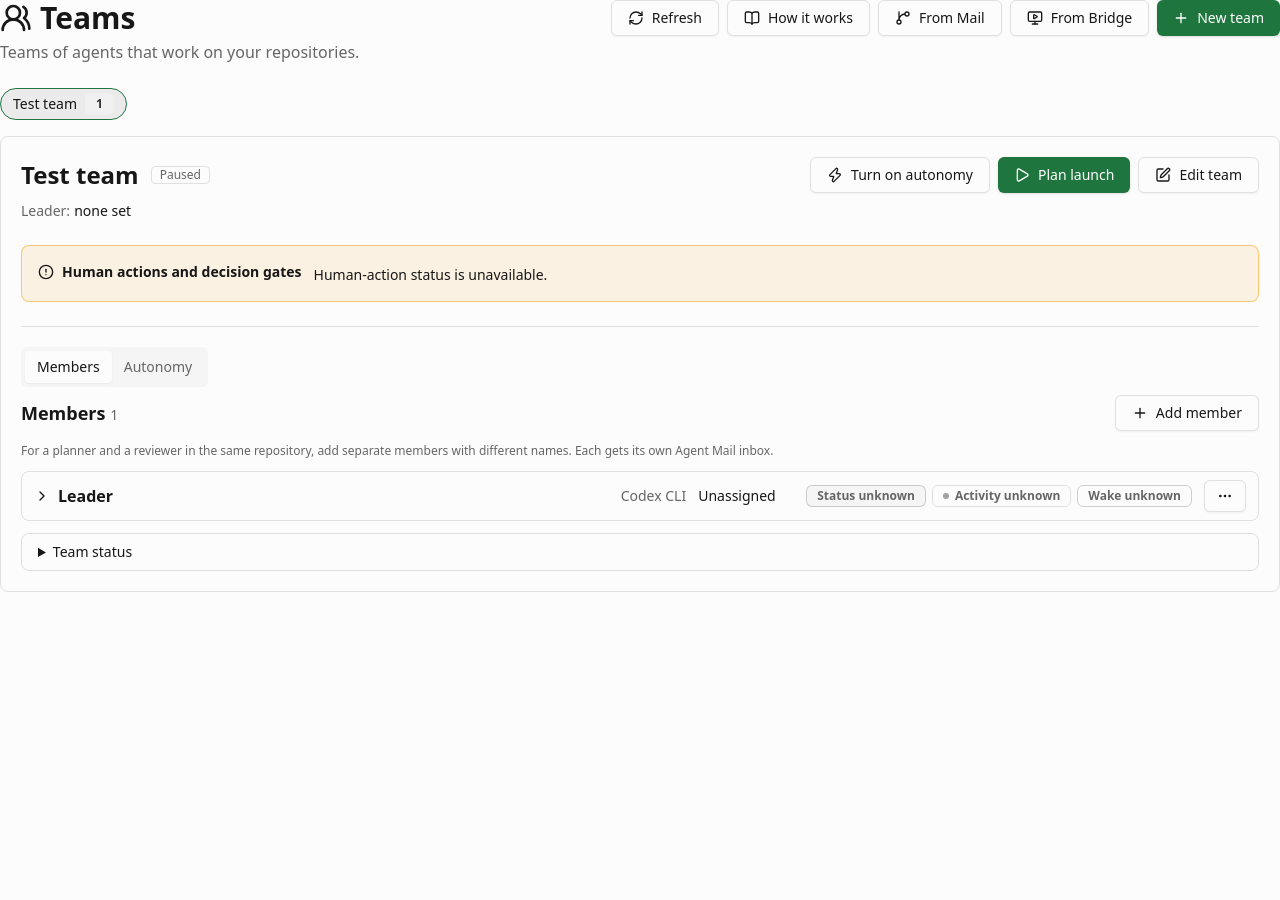
Test: AgentTeamsPage launch authorization › hides the plan while re-prompting after a rejected launch token
Click the button "Plan launch": (1064, 175) [998,157,1130,193]
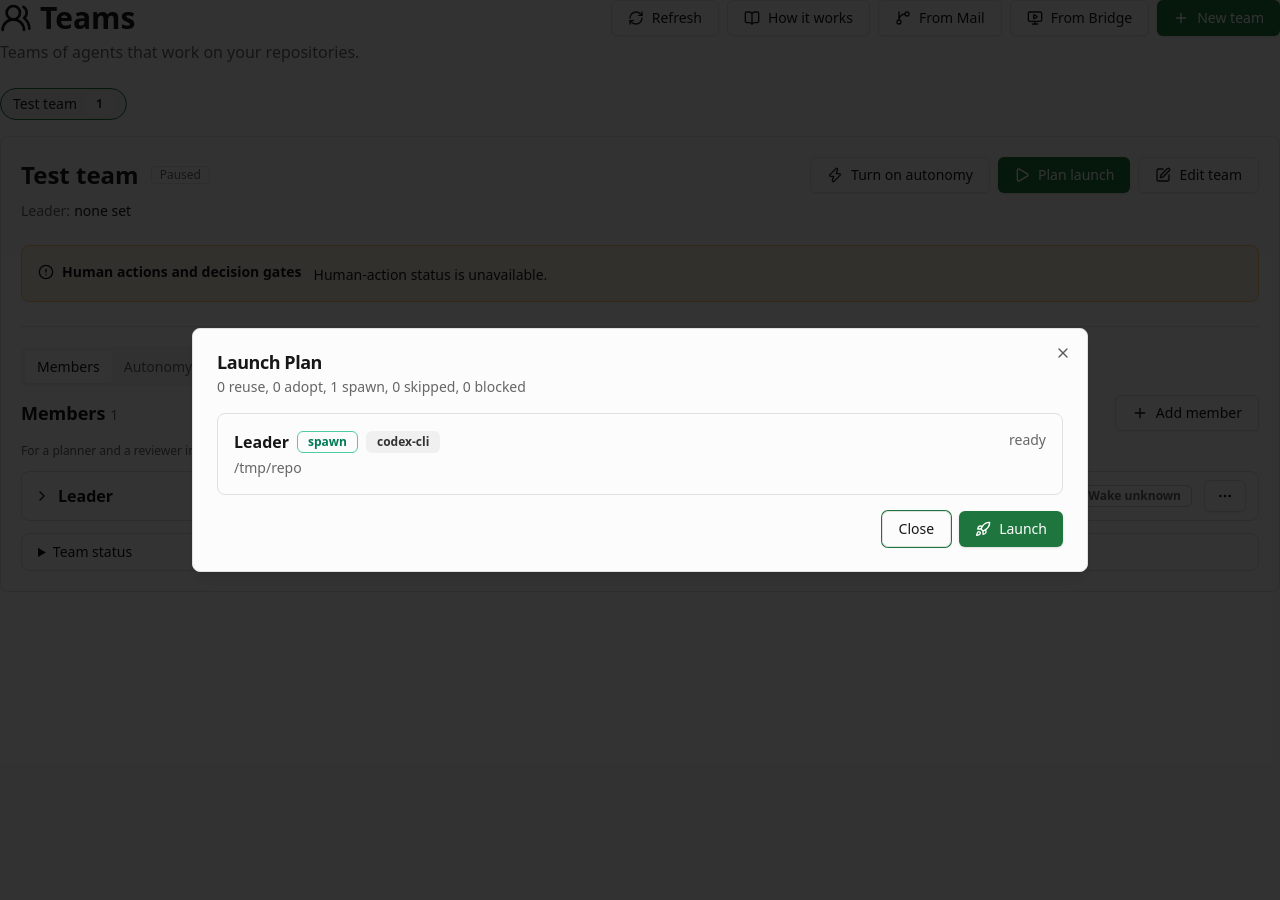
Expected: the dialog "Launch Plan" is shown, [192,328,1088,572]
Click the button "Launch": (1011, 529) [959,511,1063,547]
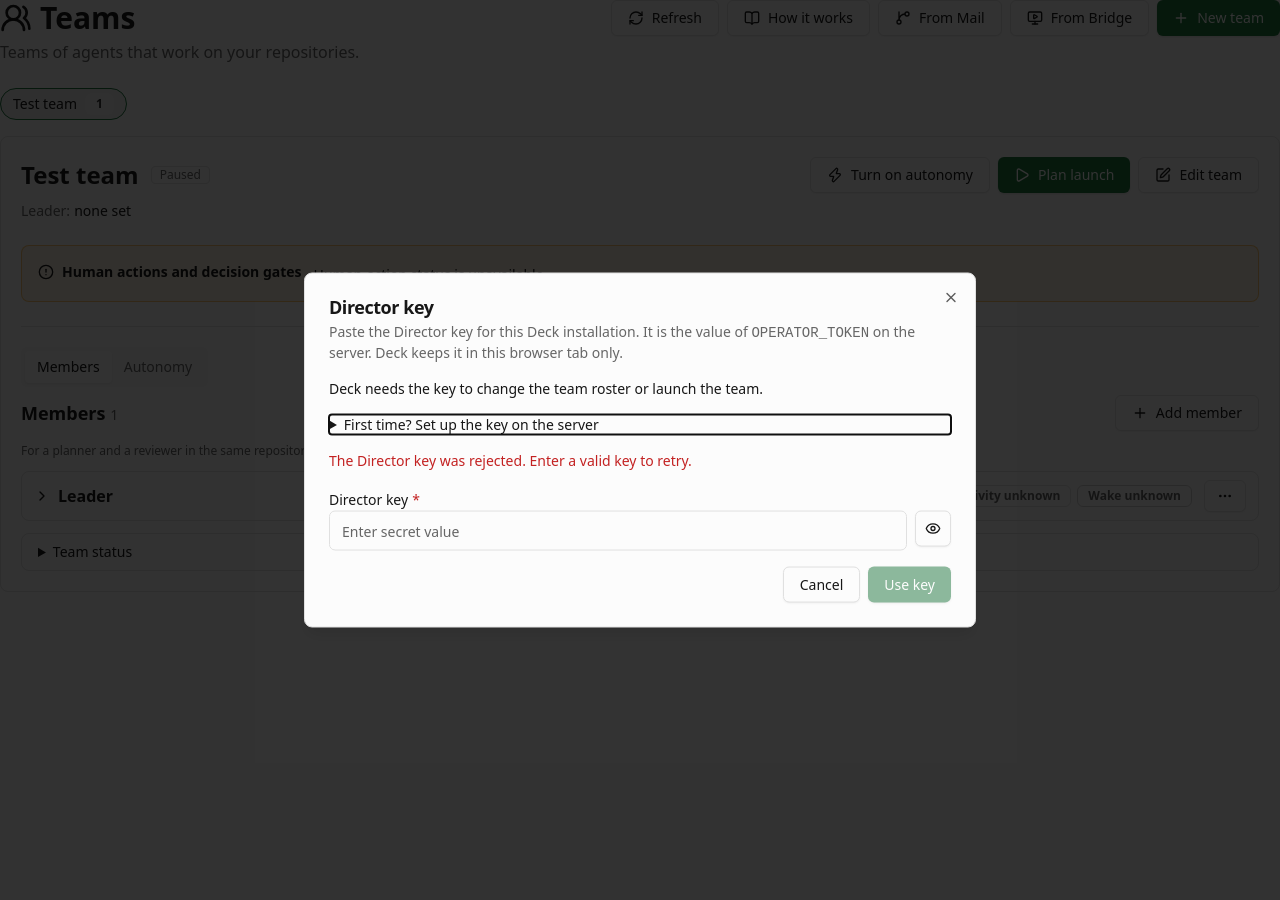
Expected: the heading "Launch Plan" is gone
In the password field labelled "Director key*": (618, 530) [329,510,907,550], type "new-token"
Then press Enter
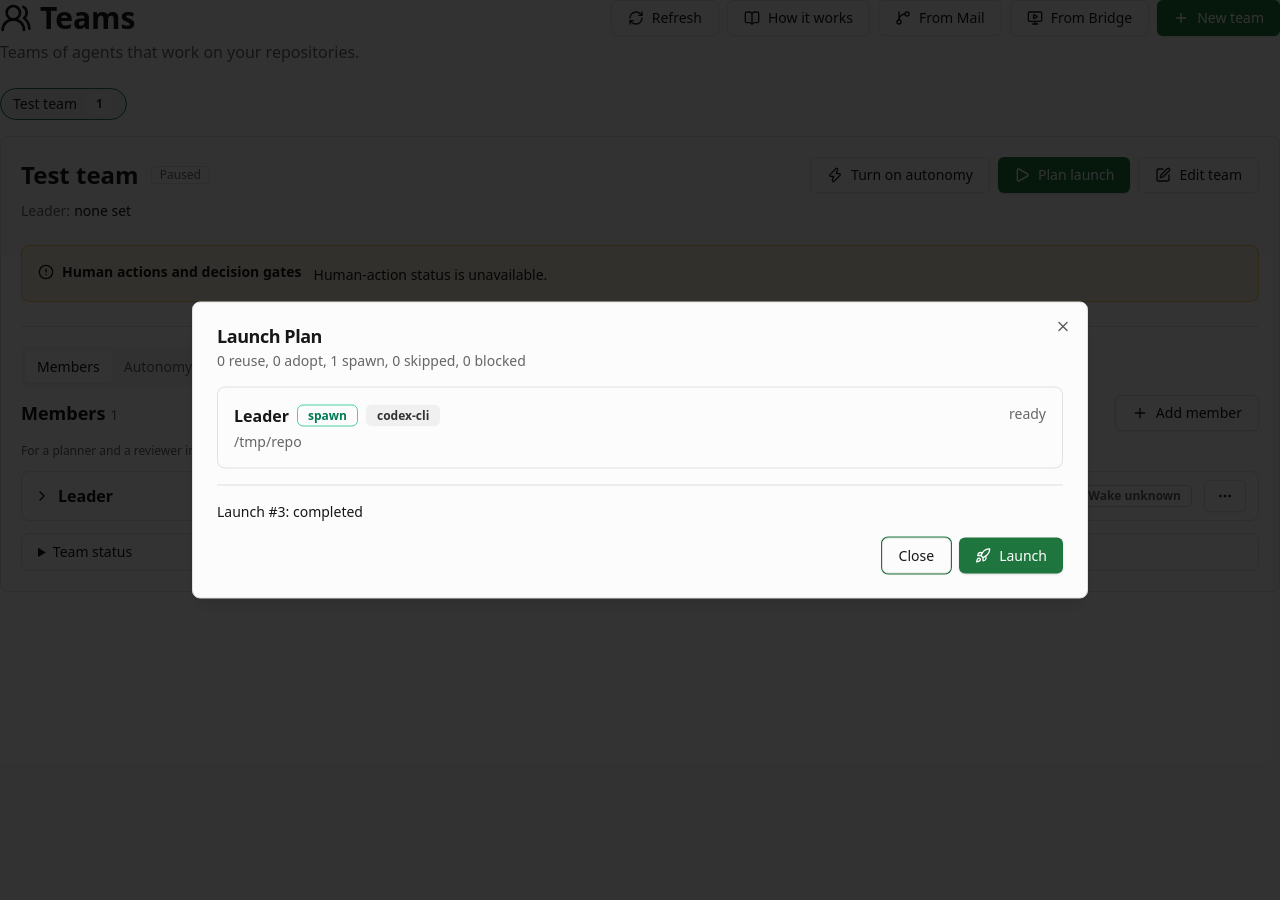
Expected: the dialog "Launch Plan" is shown, [192,302,1088,598]
